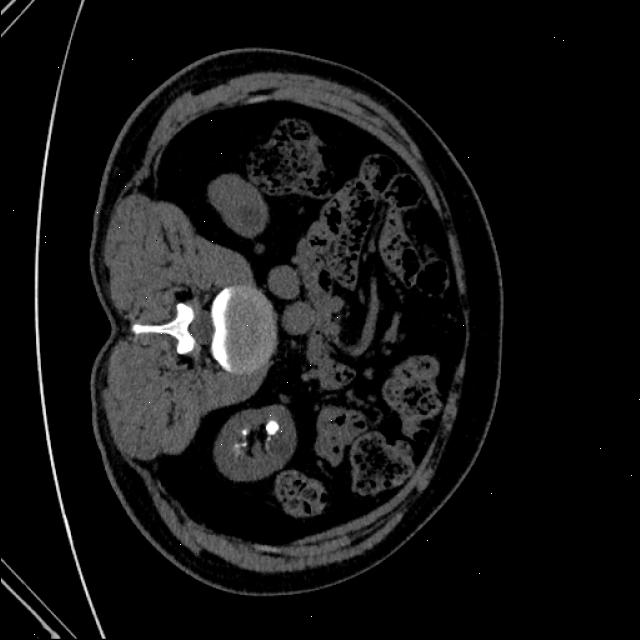kidneystone: (262, 405, 290, 439)
